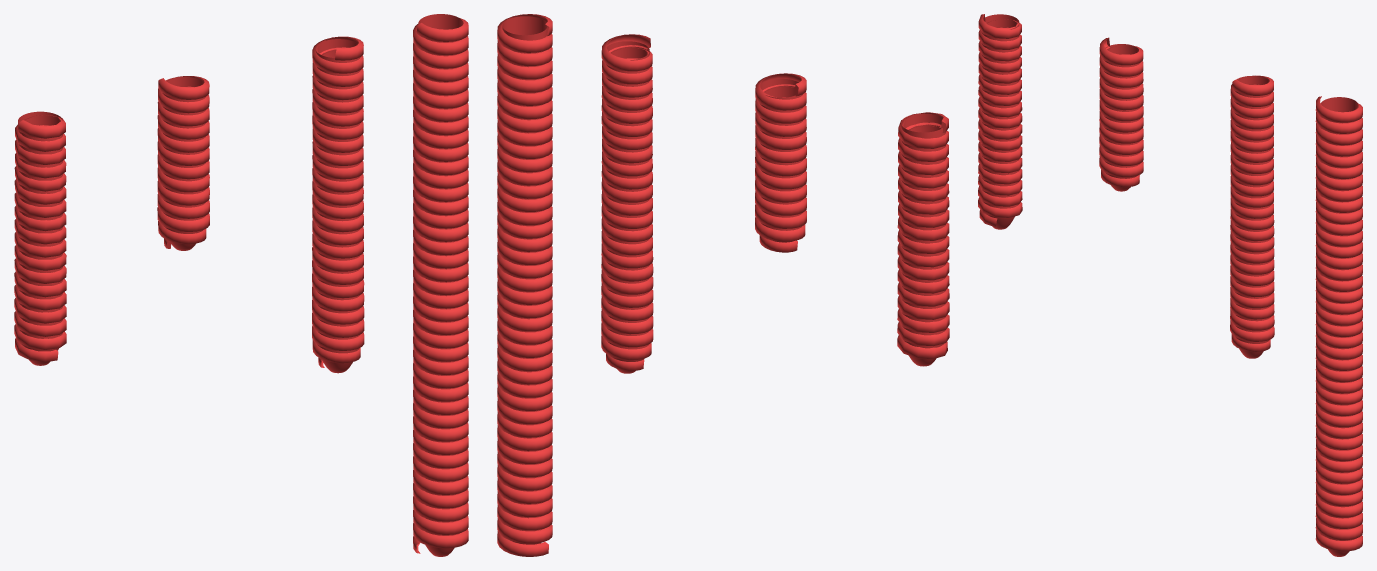
File: Screw.fbx
3 renders of one model, left to right at view 1: azimuth 30°, elevation 25°; view 2: azimuth 150°, elevation 25°; view 3: azimuth 330°, elevation 25°, orthographic. The views are drawn at different scales.
Visible parts, largest first — view 1: Body_XL, Body_BIG, Body, Body_SML; view 2: Body_XL, Body_BIG, Body, Body_SML; view 3: Body_XL, Body_BIG, Body, Body_SML.
Boxes of the visible parts, box(x1,y1,x2,y2) form: Body_XL: box(413, 14, 468, 556); Body_BIG: box(312, 36, 364, 373); Body: box(14, 111, 66, 365); Body_SML: box(157, 76, 209, 250); Body_XL: box(497, 14, 552, 556); Body_BIG: box(601, 34, 653, 373); Body: box(897, 112, 949, 366); Body_SML: box(755, 73, 806, 252); Body_XL: box(1315, 96, 1362, 556); Body_BIG: box(1230, 75, 1274, 358); Body: box(978, 14, 1022, 229); Body_SML: box(1099, 37, 1143, 191).
Bounding box in the file's own units: 234 × 271 × 25.34.
